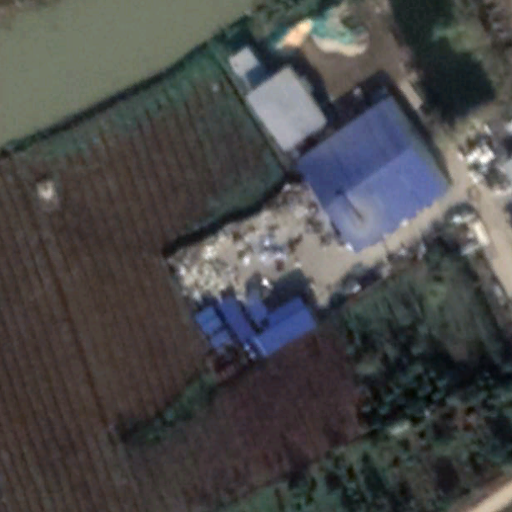msw: (181, 190, 336, 313)
